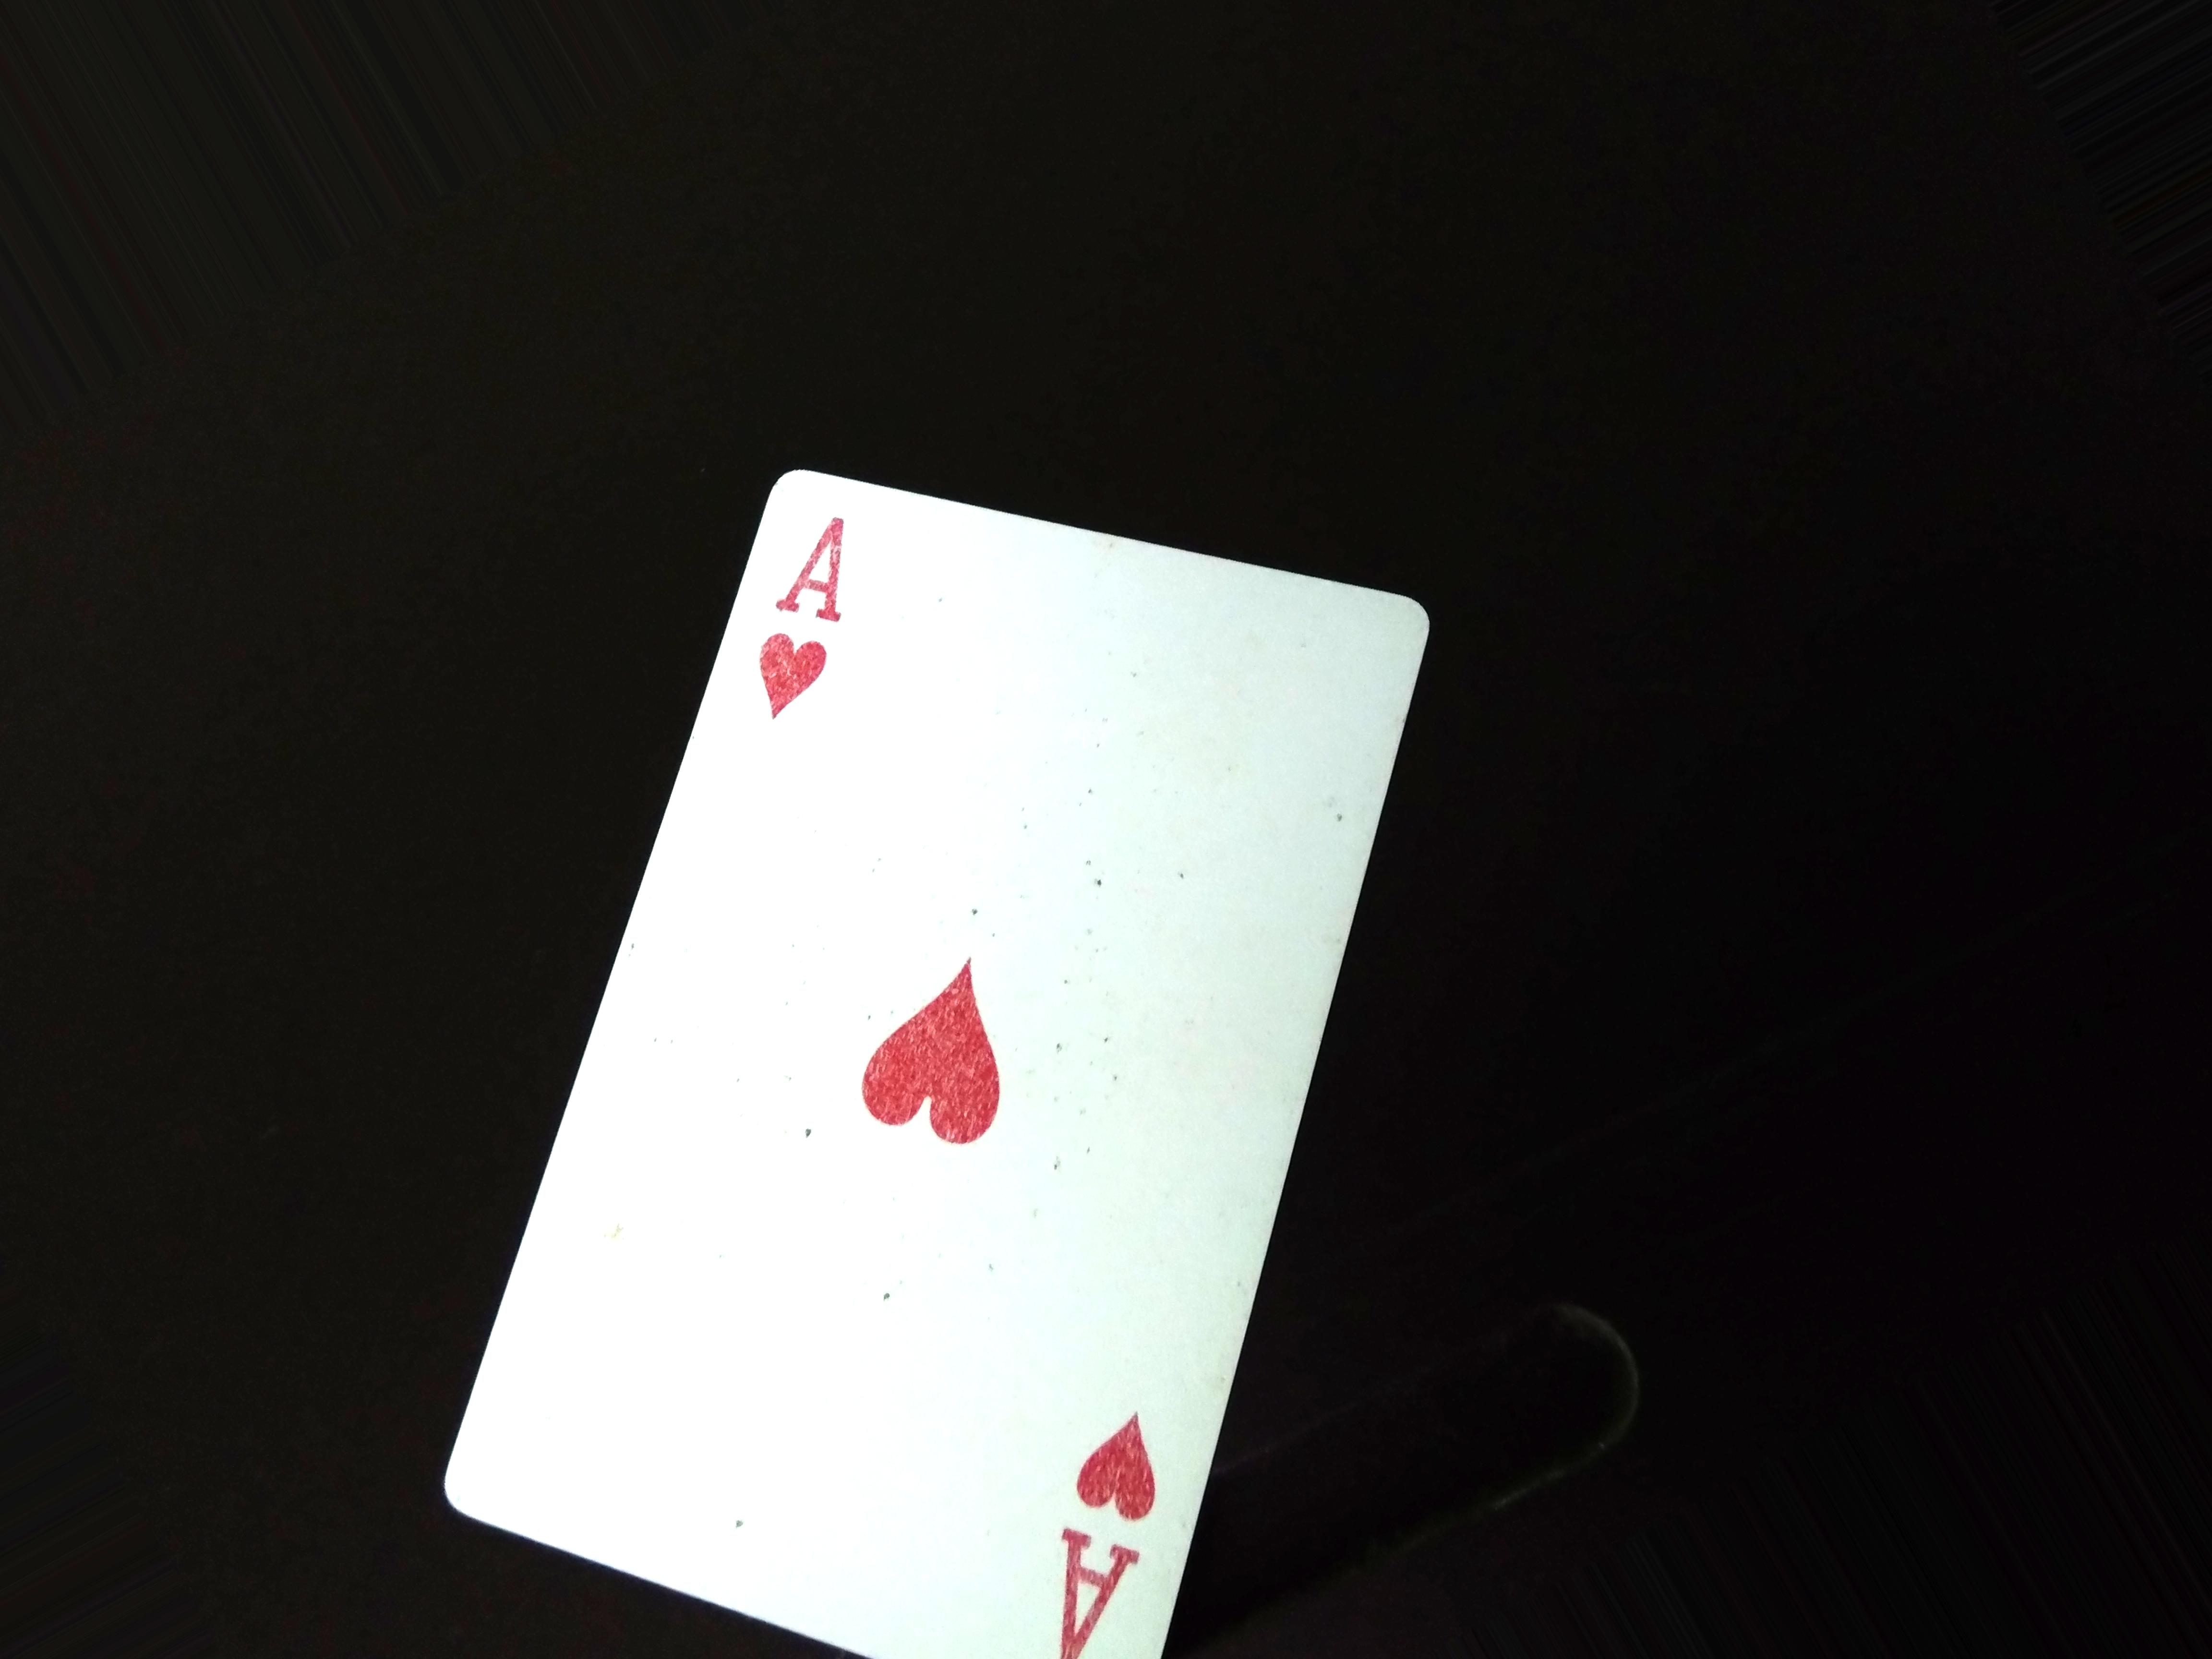AH: (737, 497, 869, 732)
